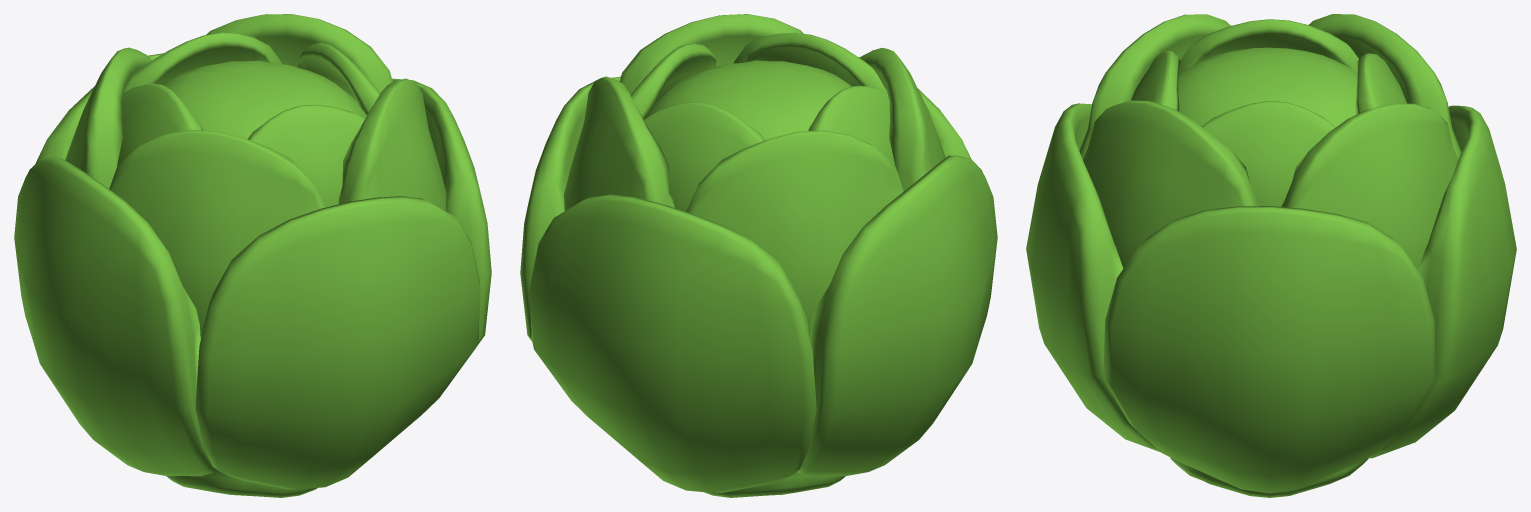
Rendered from Cabbage_Ing.fbx.
The picture shows the model from 3 angles, left to right: view 1: azimuth 30°, elevation 25°; view 2: azimuth 150°, elevation 25°; view 3: azimuth 270°, elevation 25°; orthographic projection.
Parts seen in each view (by area): view 1: Cabbage1; view 2: Cabbage1; view 3: Cabbage1.
Part boxes in pixels (box(x1,y1,x2,y2)): Cabbage1: box(14, 14, 491, 497); Cabbage1: box(520, 14, 997, 497); Cabbage1: box(1026, 14, 1516, 497).
Bounding box in the file's own units: 55.9 × 52 × 56.16.
